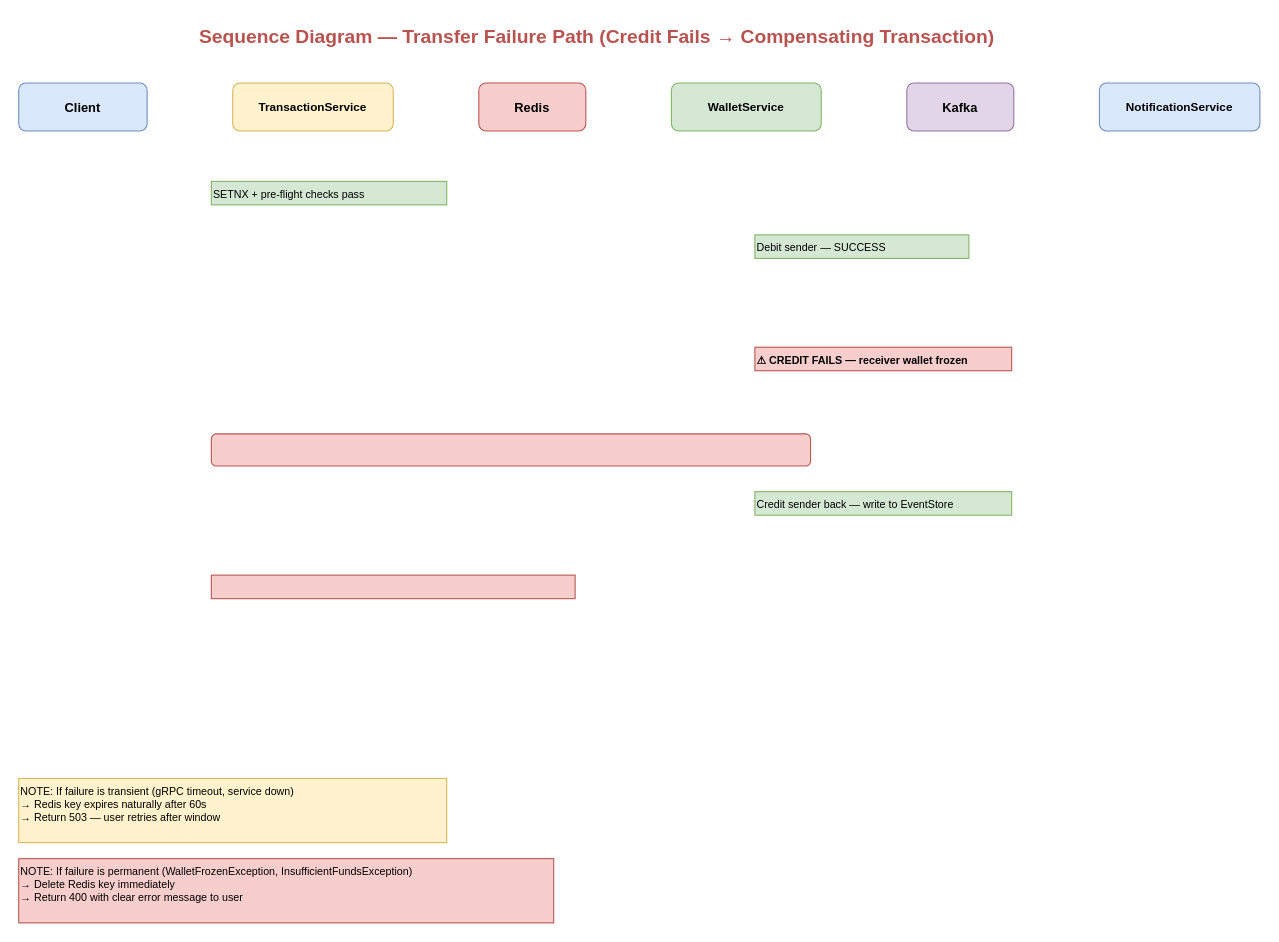
This 1279x942 diagram has some shape labels left out. The centre of each missing label's shape, as x and y in pixels:
"COMPENSATING TRANSACTION" goes at (510,449).
"Mark Transaction: REVERSED — save TransactionFailure record" goes at (392,586).
